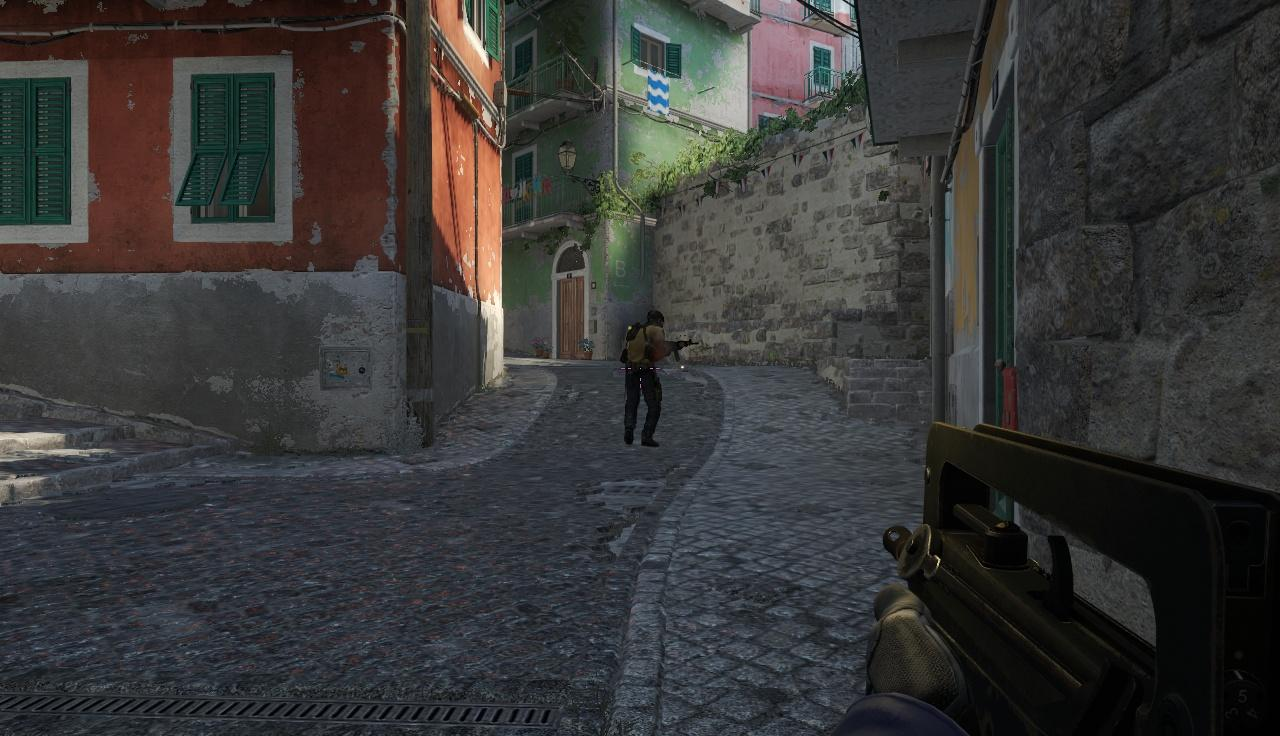rifle: (881, 417, 1280, 732)
tt: (628, 312, 673, 454), (95, 0, 108, 9)
tthead: (643, 310, 664, 332)
